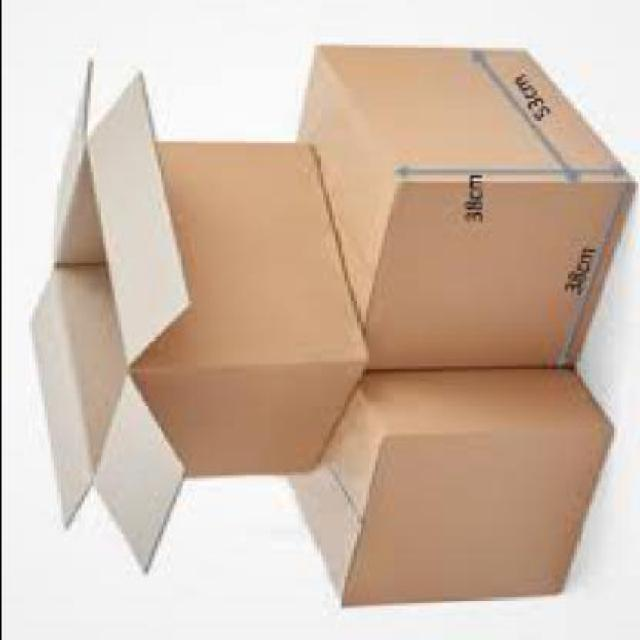CARDBOARD: (21, 64, 362, 579), (294, 48, 628, 374), (282, 372, 609, 608)
